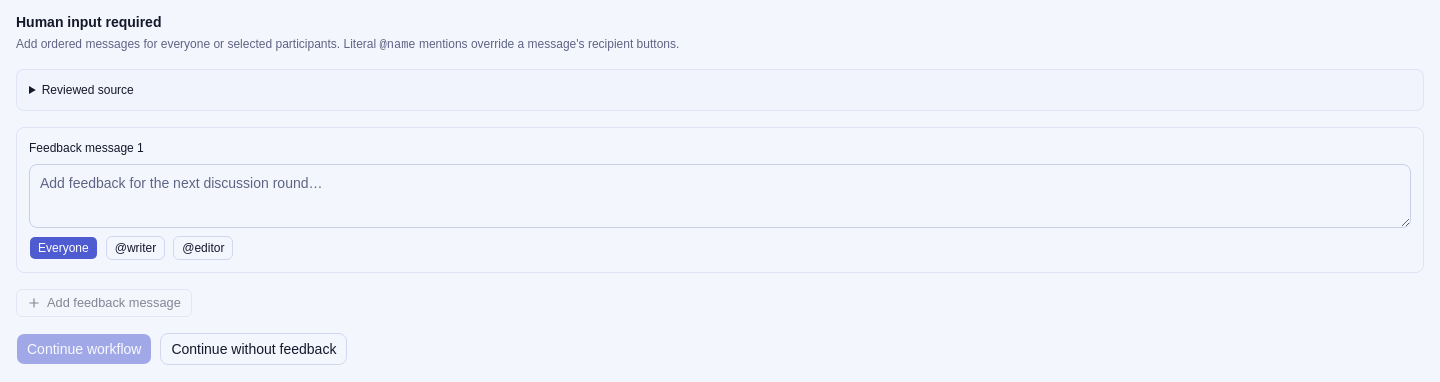
Test case: HumanInputPanel › inserts a recipient mention with the pointer
The width and height of the screenshot is (1440, 382).
In the text box labelled "Feedback message 1": (720, 196) [29,164,1411,228], type "@wr"
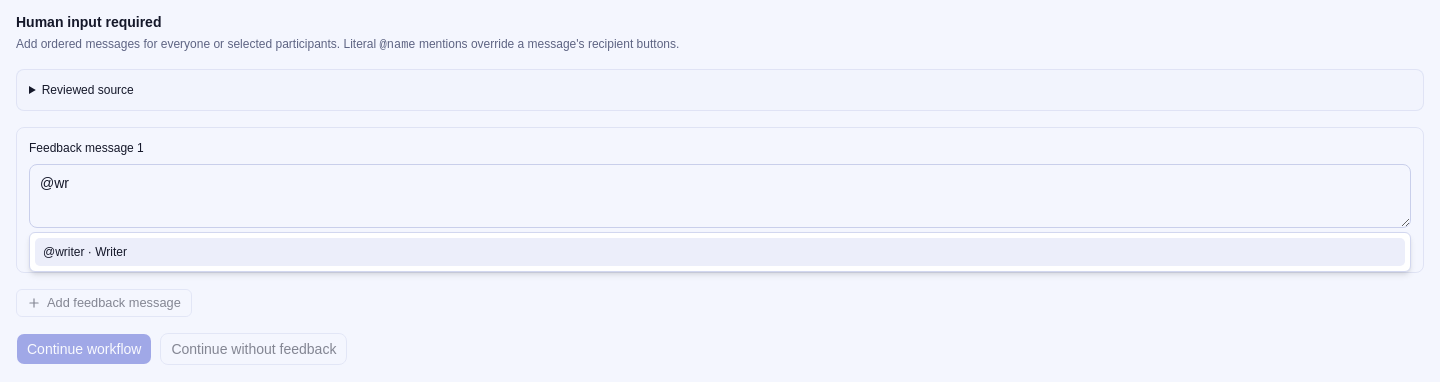
Click the option "@writer · Writer": (111, 252) [34,237,1406,267]
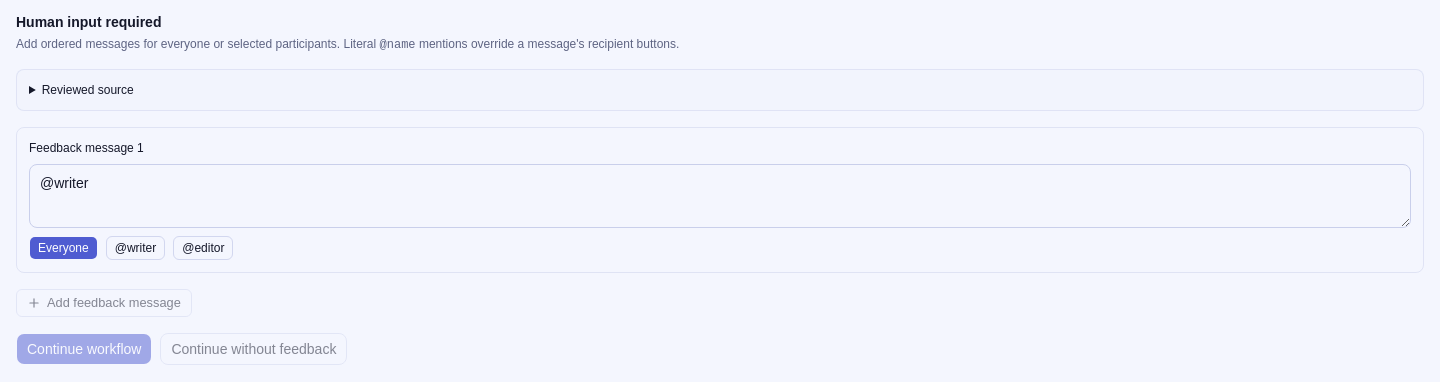
Check: the text box labelled "Feedback message 1" holds "@writer ", box [29,164,1411,228]
